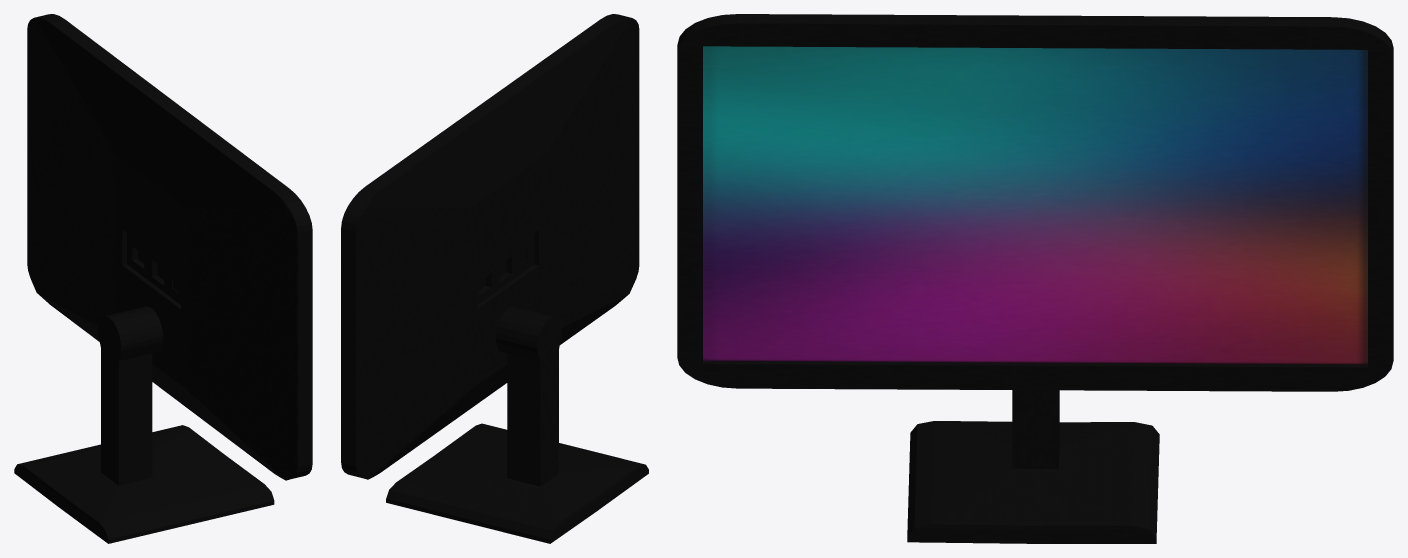
Rendered from monitor.fbx.
3 renders of one model, left to right at view 1: azimuth 30°, elevation 25°; view 2: azimuth 150°, elevation 25°; view 3: azimuth 270°, elevation 25°, orthographic. The views are drawn at different scales.
Parts seen in each view (by area): view 1: Monitor; view 2: Monitor; view 3: Monitor.
Part boxes in pixels (x1=…): Monitor: x1=14, y1=14, x2=312, y2=543; Monitor: x1=341, y1=14, x2=648, y2=543; Monitor: x1=677, y1=14, x2=1393, y2=543.
Size of the model in its own units: 21.92 by 47.3 by 62.92.
